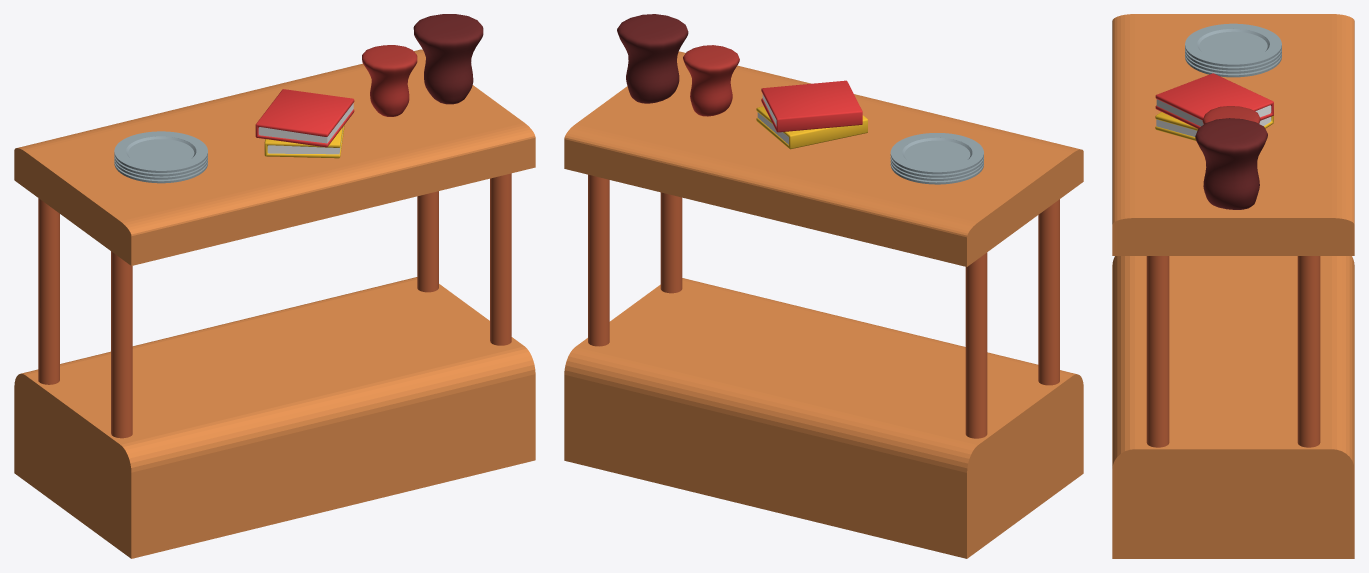
File: wydawka-dekor.gltf
3 views of the same model, side by side, from view 1: azimuth 30°, elevation 25°; view 2: azimuth 150°, elevation 25°; view 3: azimuth 270°, elevation 25° (orthographic). The views are drawn at different scales.
Visible parts, largest first — view 1: Cube.002; view 2: Cube.002; view 3: Cube.002.
Part boxes in pixels (left/top/right/bottom): Cube.002: left=14, top=14, right=535, bottom=558; Cube.002: left=564, top=14, right=1083, bottom=558; Cube.002: left=1112, top=14, right=1354, bottom=558.
Size of the model in its own units: 4 by 3.77 by 2.
Materials: 1 (1 with a texture image).
